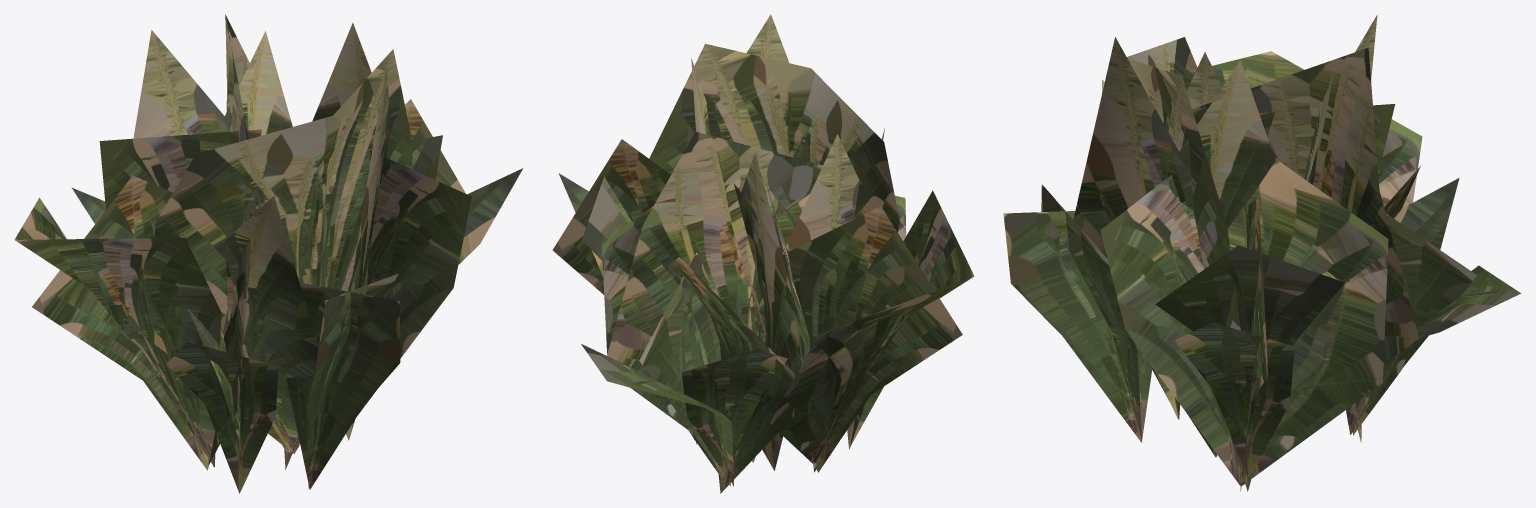
Rendered from beach_grass_02_1.fbx.
The picture shows the model from 3 angles, left to right: view 1: azimuth 30°, elevation 25°; view 2: azimuth 150°, elevation 25°; view 3: azimuth 270°, elevation 25°; orthographic projection. The views are drawn at different scales.
Visible parts, largest first — view 1: beach_grass_02_1_LOD0; view 2: beach_grass_02_1_LOD0; view 3: beach_grass_02_1_LOD0.
Boxes of the visible parts, left/top/right/bottom form: beach_grass_02_1_LOD0: left=14, top=14, right=523, bottom=493; beach_grass_02_1_LOD0: left=552, top=14, right=974, bottom=493; beach_grass_02_1_LOD0: left=1003, top=14, right=1520, bottom=491.
Size of what is drawn, in the model's own units: 83.9 by 71.52 by 74.92.
